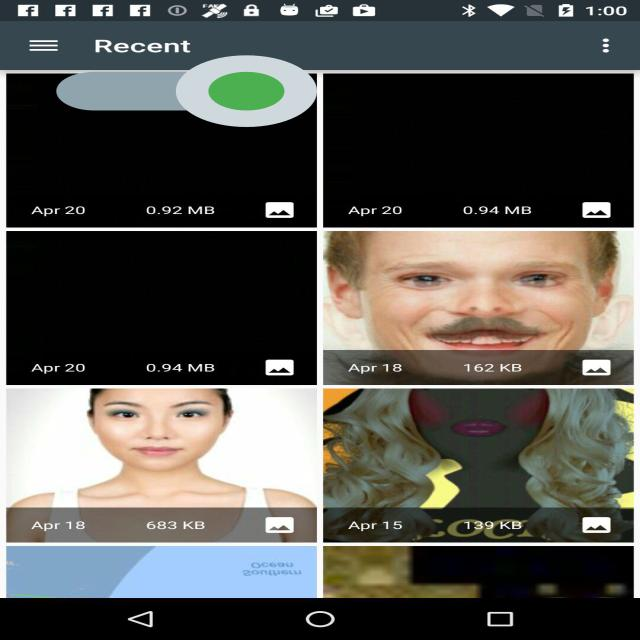social proof: (56, 25, 317, 157)
